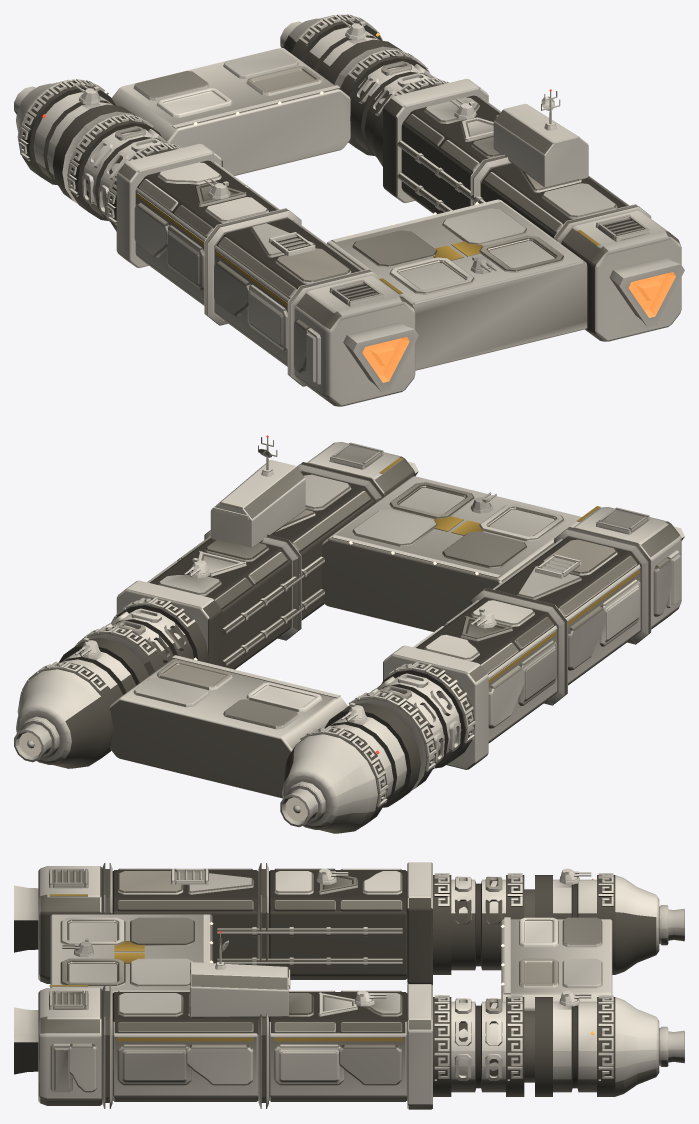
The model's file is plektor_carrier.glb.
The picture shows the model from 3 angles, top to bottom: view 1: azimuth 30°, elevation 25°; view 2: azimuth 150°, elevation 25°; view 3: azimuth 270°, elevation 25°; orthographic projection. The views are drawn at different scales.
Parts seen in each view (by area): view 1: hull, engines; view 2: hull, engines; view 3: hull, engines.
Boxes of the visible parts, left/top/right/bottom form: hull: left=16, top=14, right=681, bottom=406; engines: left=14, top=21, right=684, bottom=392; hull: left=16, top=435, right=681, bottom=833; engines: left=14, top=461, right=684, bottom=827; hull: left=38, top=862, right=659, bottom=1109; engines: left=14, top=885, right=684, bottom=1074.
Bounding box in the file's own units: 50.23 × 23.11 × 84.5.
Materials: 10 (4 with a texture image).
